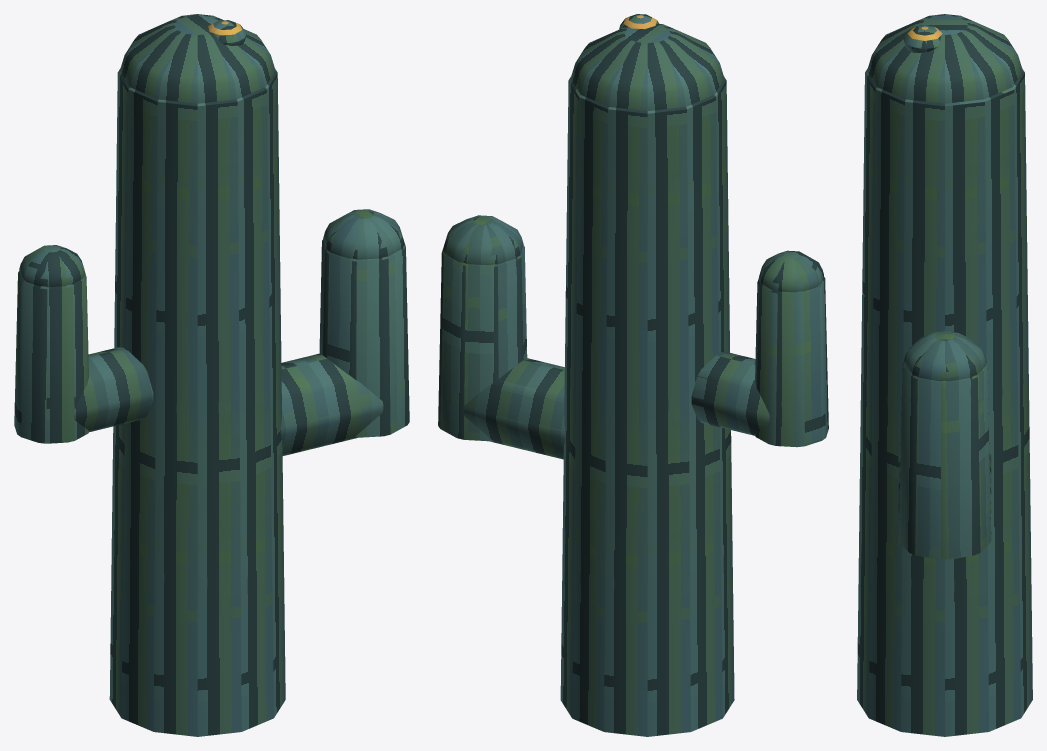
The model's file is spec_cactus_1.glb.
3 renders of one model, left to right at view 1: azimuth 30°, elevation 25°; view 2: azimuth 150°, elevation 25°; view 3: azimuth 270°, elevation 25°, orthographic.
Parts seen in each view (by area): view 1: spec_cactus_1; view 2: spec_cactus_1; view 3: spec_cactus_1.
Part boxes in pixels (box(x1,y1,x2,y2)): spec_cactus_1: box(14, 14, 409, 736); spec_cactus_1: box(438, 14, 828, 736); spec_cactus_1: box(857, 14, 1032, 736).
Size of the model in its own units: 1.11 by 1.88 by 0.44.
2 materials, 2 textured.
